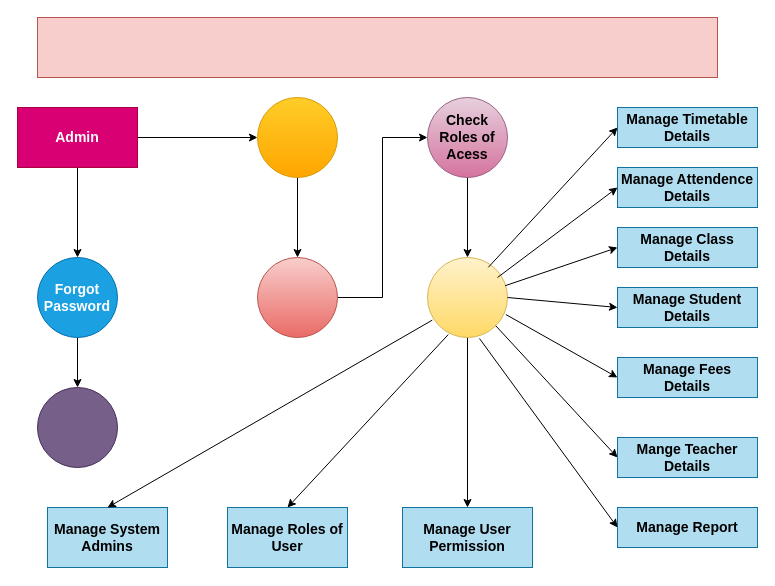
The diagram is 775 pixels wide and 586 high, and some of its shapes have lost their labels. The shapes that lost their labels are listed below. From the top down, each one's box as (x1, y1, x2, y2) in pixels, then its label:
(36, 16, 718, 78): Student application
(256, 96, 338, 178): Login to system
(256, 256, 338, 338): Check Credentials
(426, 256, 508, 338): Manage Modules
(36, 386, 118, 468): Send Email to user
